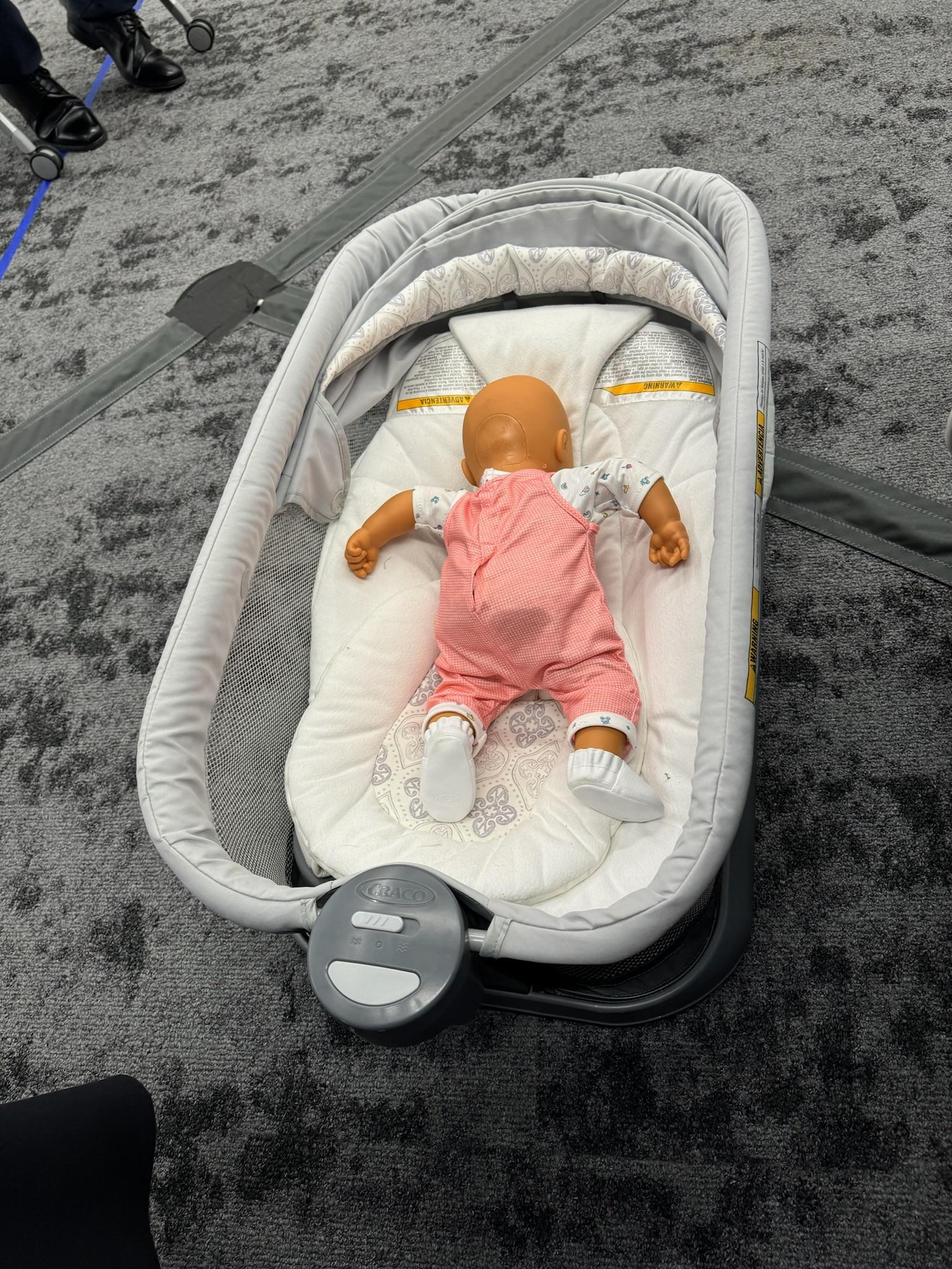baby: (346, 369, 688, 824)
